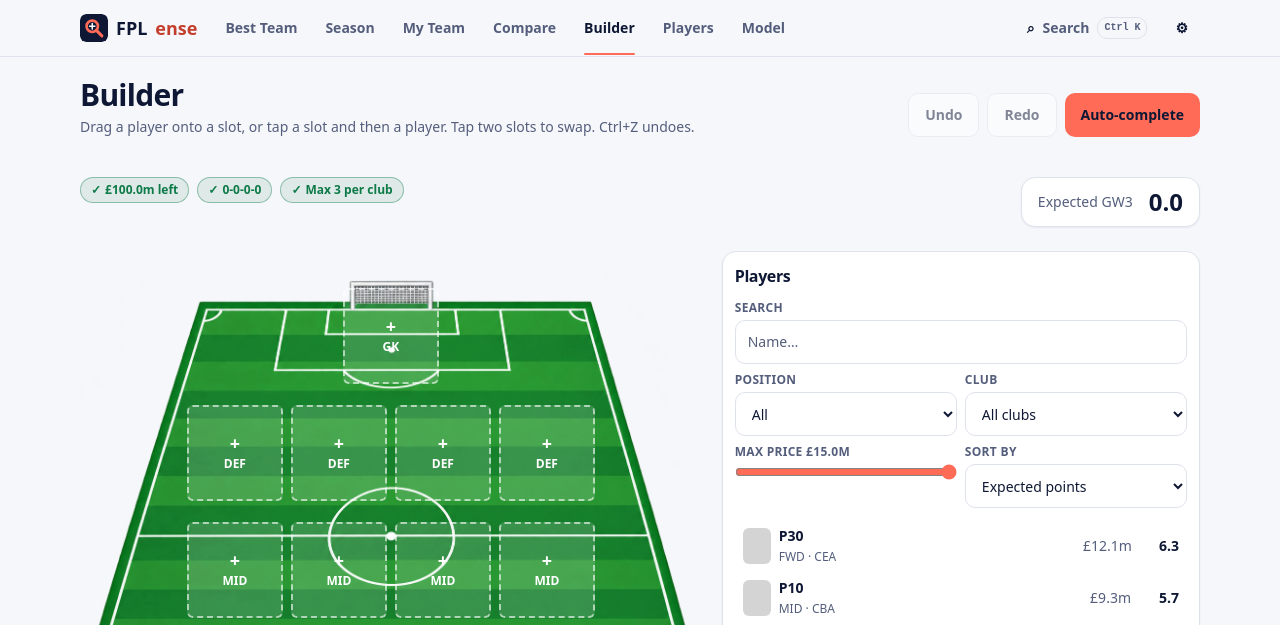
Scenario: Builder › tap a slot, then a player: the player is placed in that slot
Select "Club A" in the dropdown labelled "Club" at (1076, 414), box [965,392,1187,436]
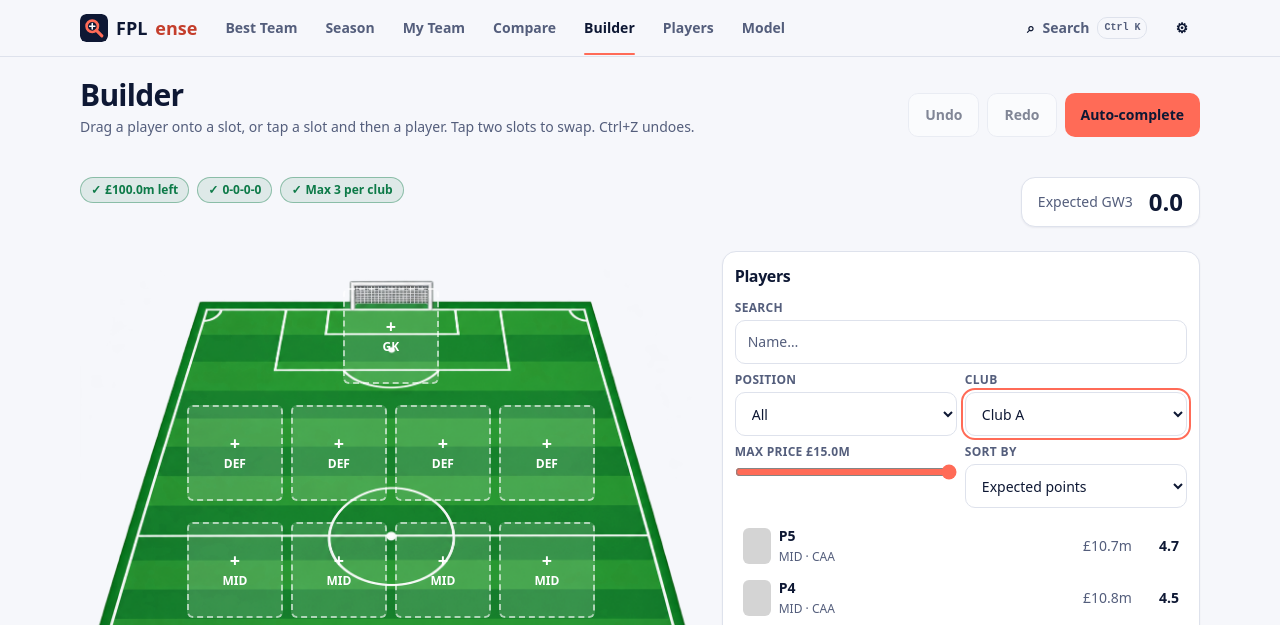
Click the button with aria-label "Empty GK slot".
click(391, 336)  # box [343,288,439,384]
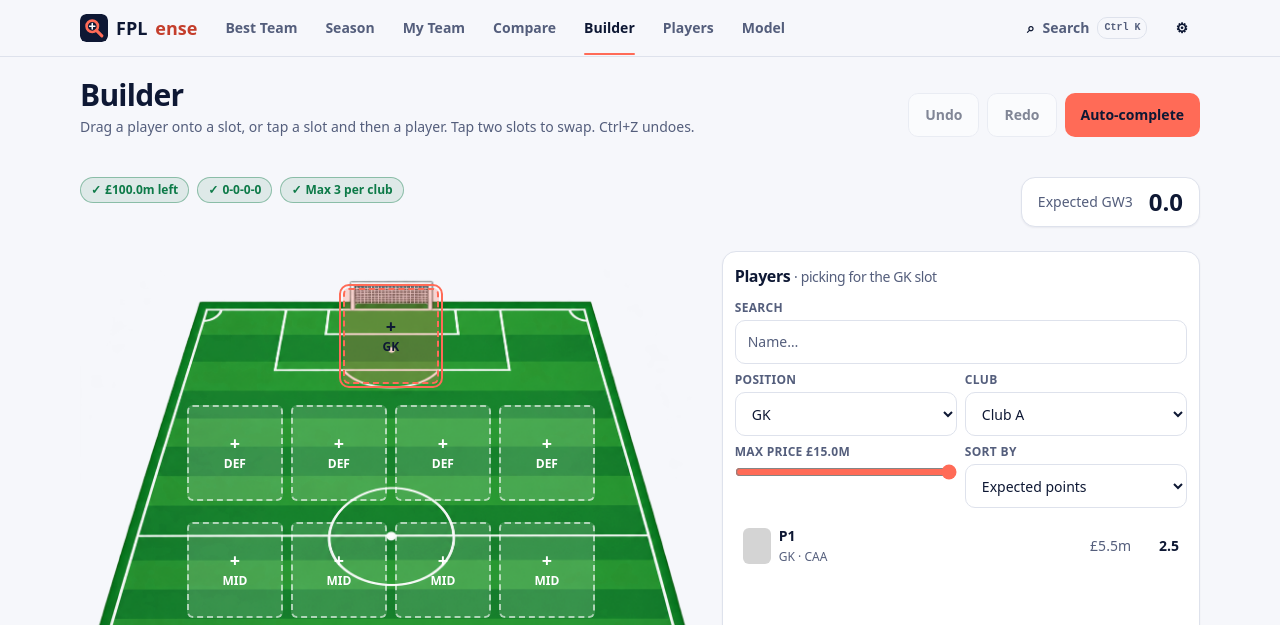
Result: the button with aria-label "Empty GK slot (selected" is shown at [343,288,439,384]
Click the button "P1 GK · CAA £5.5m 2.5".
click(1111, 546)  # box [735,520,1187,572]
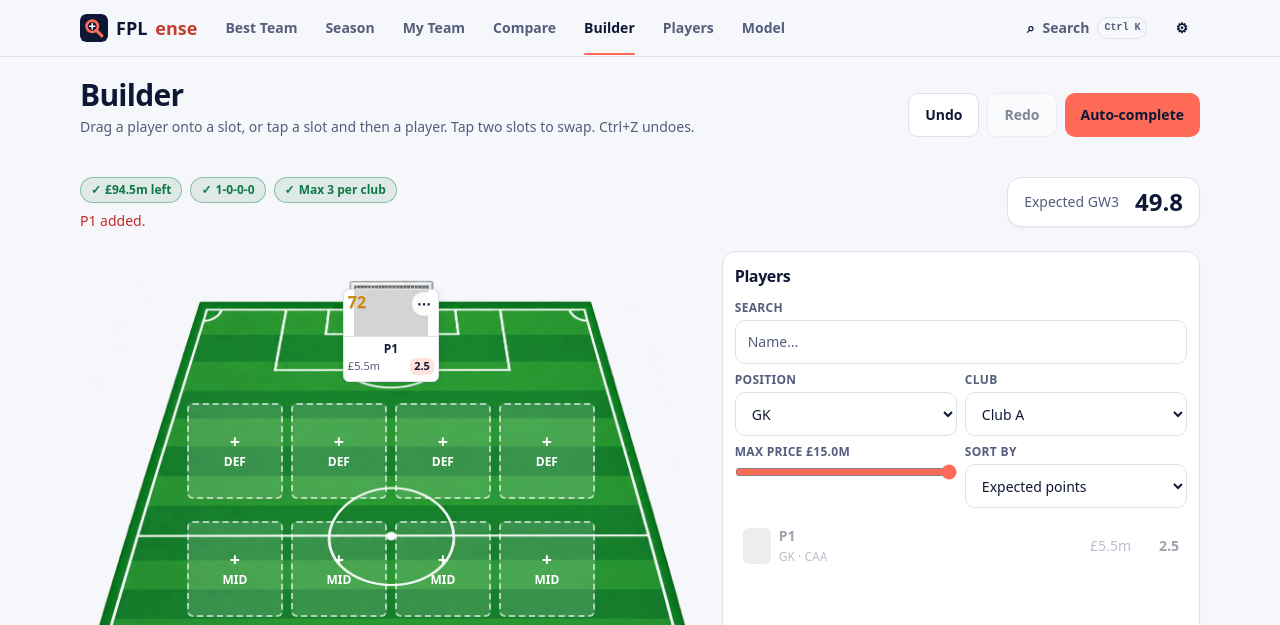
Result: the button "P1 GK · CAA £5.5m 2.5" is disabled at [735,520,1187,572]
